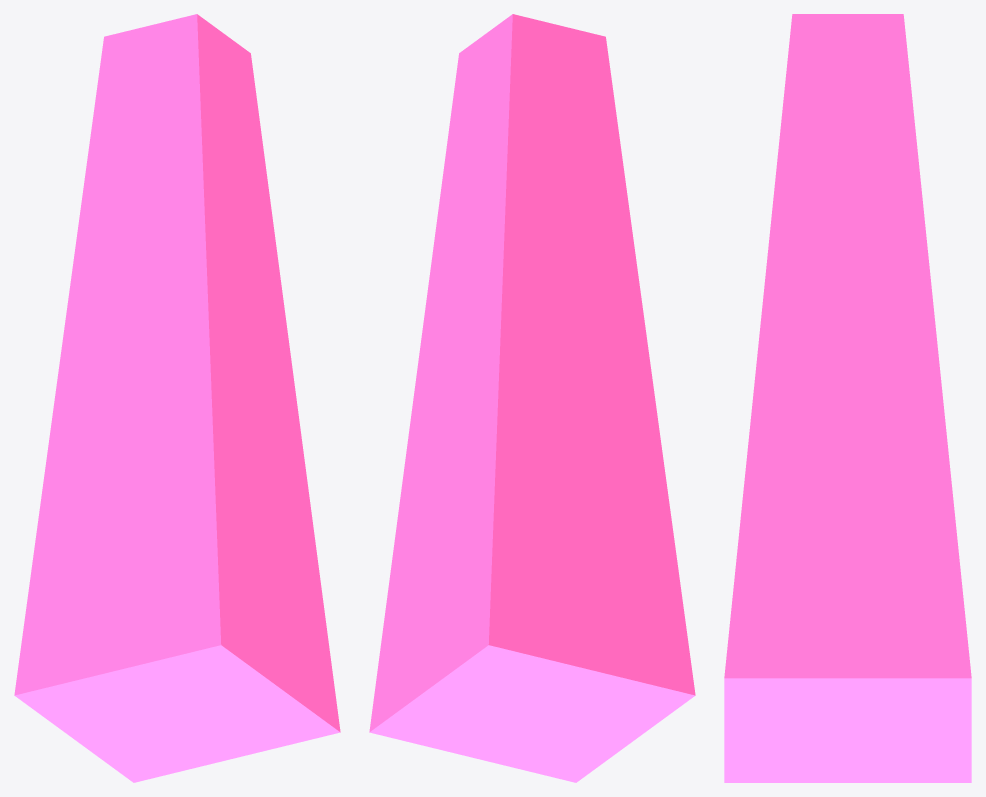
File: boundary_tower.glb
3 views of the same model, side by side, from view 1: azimuth 30°, elevation 25°; view 2: azimuth 150°, elevation 25°; view 3: azimuth 270°, elevation 25° (orthographic). The views are drawn at different scales.
Parts seen in each view (by area): view 1: boundary_tower; view 2: boundary_tower; view 3: boundary_tower.
Boxes of the visible parts, x1,y1,x2,y2 form: boundary_tower: (14,14,340,782); boundary_tower: (369,14,695,782); boundary_tower: (724,14,971,782).
Bounding box in the file's own units: 1.1 × 3.4 × 1.1.
